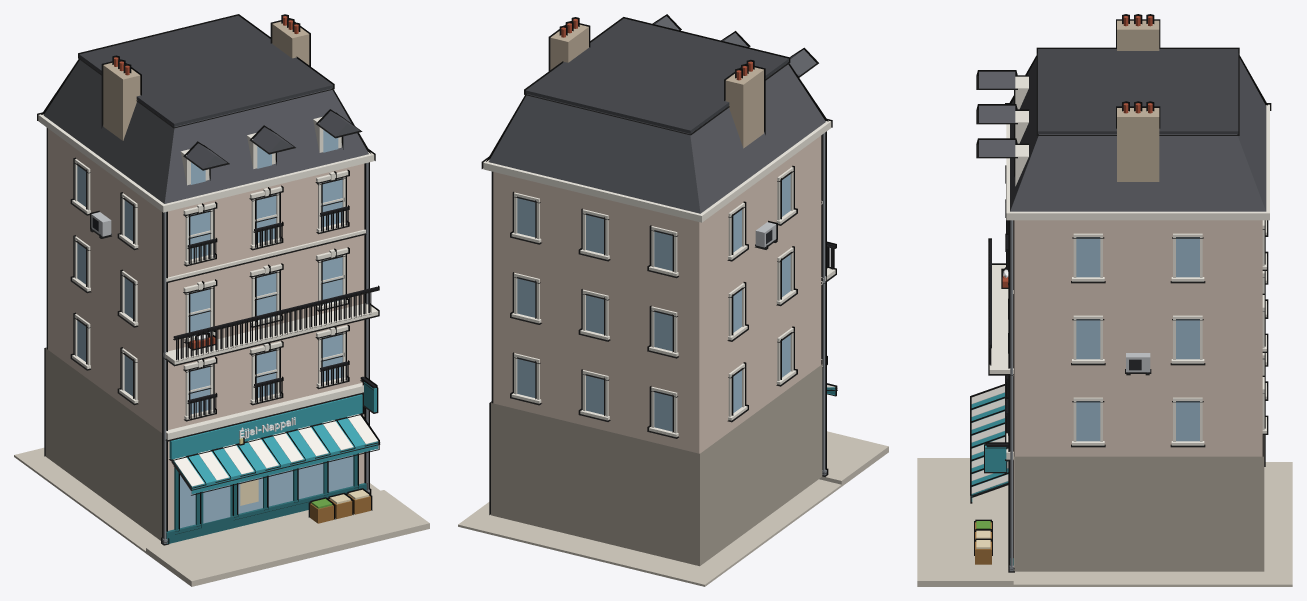
Rendered from Dukkan_ejjel_nappali.fbx.
3 views of the same model, side by side, from view 1: azimuth 30°, elevation 25°; view 2: azimuth 150°, elevation 25°; view 3: azimuth 270°, elevation 25° (orthographic). The views are drawn at different scales.
Parts seen in each view (by area): view 1: Dukkan_ejjel_nappali; view 2: Dukkan_ejjel_nappali; view 3: Dukkan_ejjel_nappali.
Part boxes in pixels (<box>): Dukkan_ejjel_nappali: <box>14,14,429,586</box>; Dukkan_ejjel_nappali: <box>458,14,888,586</box>; Dukkan_ejjel_nappali: <box>917,14,1292,586</box>.
Bounding box in the file's own units: 9.65 × 17.06 × 12.46.
